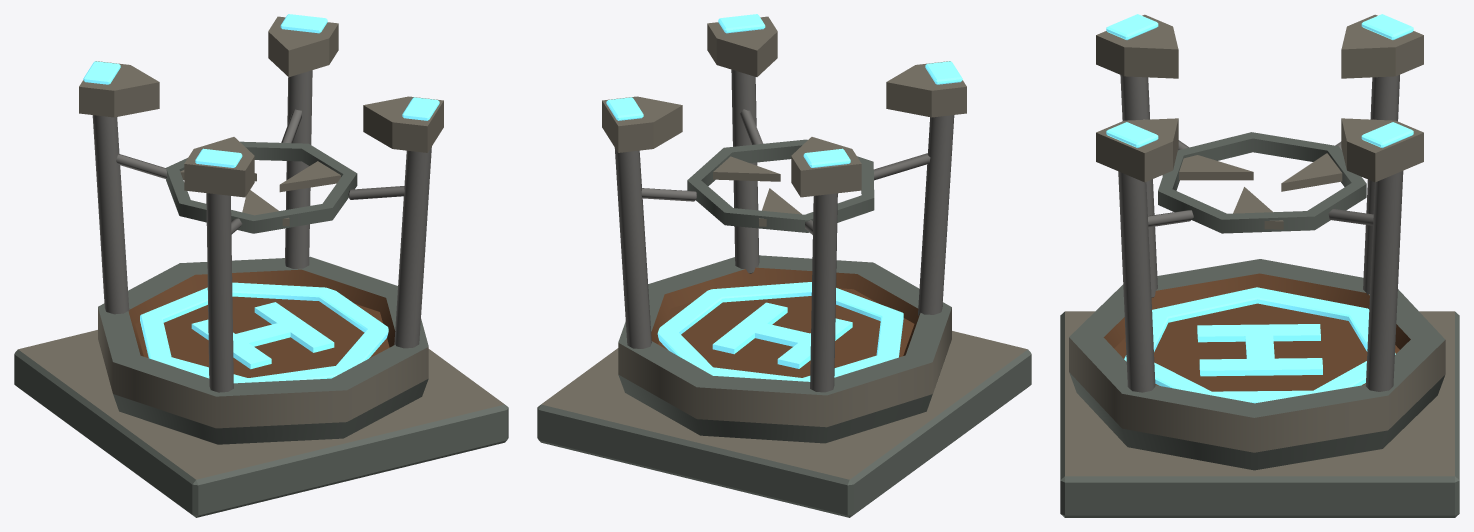
Rendered from R4X_FlyingDroneDeployer_LOD1.fbx.
3 views of the same model, side by side, from view 1: azimuth 30°, elevation 25°; view 2: azimuth 150°, elevation 25°; view 3: azimuth 270°, elevation 25° (orthographic). The views are drawn at different scales.
Visible parts, largest first — view 1: R4X_FlyingDroneDeployer_LOD1; view 2: R4X_FlyingDroneDeployer_LOD1; view 3: R4X_FlyingDroneDeployer_LOD1.
Part boxes in pixels (x1,y1,x2,y2): R4X_FlyingDroneDeployer_LOD1: (14, 14, 508, 517); R4X_FlyingDroneDeployer_LOD1: (537, 14, 1031, 517); R4X_FlyingDroneDeployer_LOD1: (1060, 14, 1459, 517).
Size of the model in its own units: 0.52 by 0.513 by 0.52.
